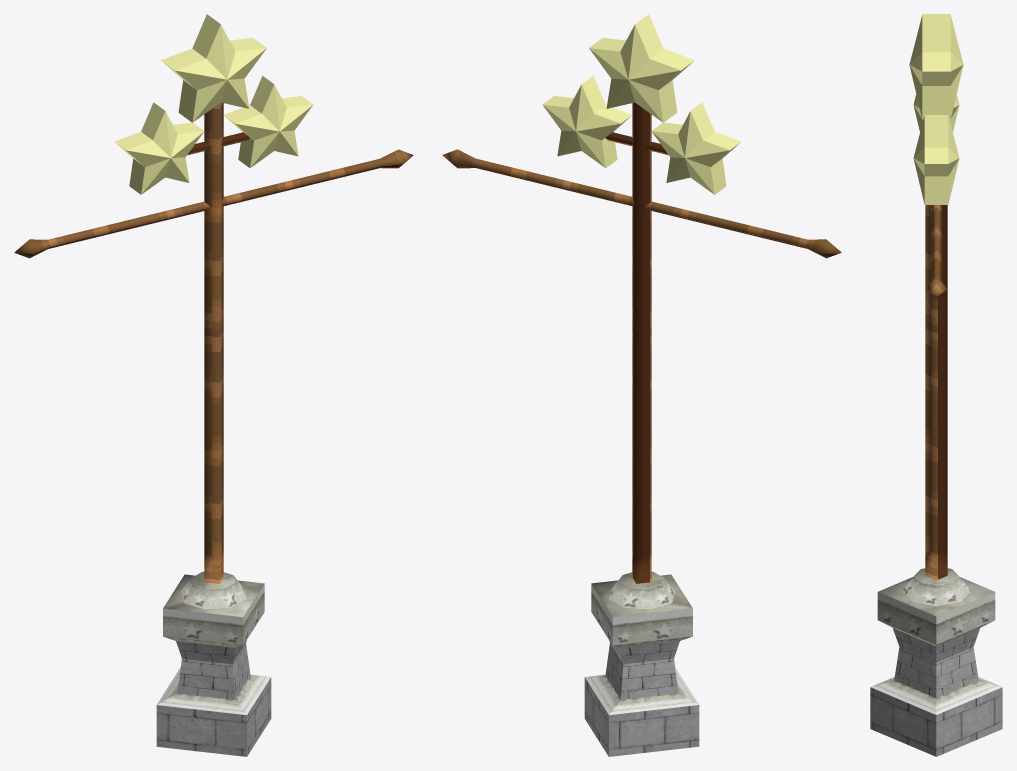
Rendered from StreetLightaneddesuire.fbx.
3 views of the same model, side by side, from view 1: azimuth 30°, elevation 25°; view 2: azimuth 150°, elevation 25°; view 3: azimuth 270°, elevation 25° (orthographic).
Parts seen in each view (by area): view 1: mesh-18.289; view 2: mesh-18.289; view 3: mesh-18.289.
Boxes of the visible parts, box(x1,y1,x2,y2) form: mesh-18.289: box(14, 14, 413, 756); mesh-18.289: box(442, 14, 841, 756); mesh-18.289: box(870, 14, 1002, 756).
Bounding box in the file's own units: 212 × 362 × 60.83.
4 materials, 4 textured.
